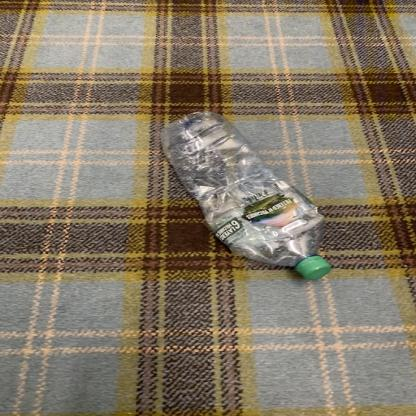trash: (159, 110, 333, 280)
